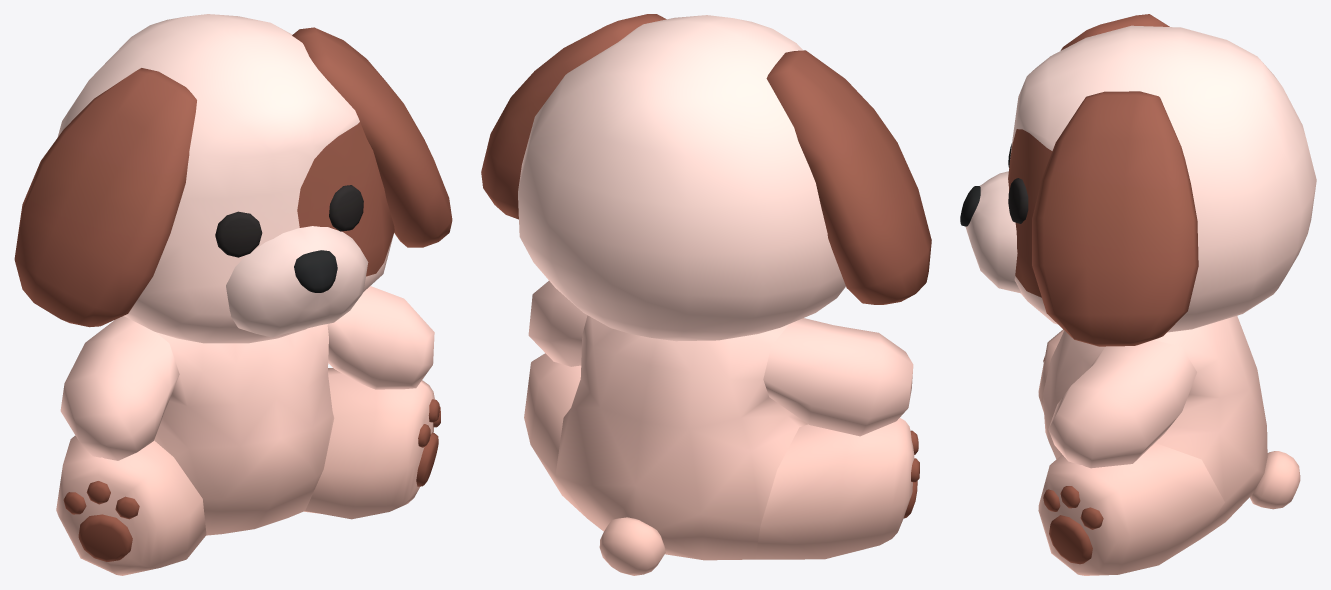
The model's file is Dog_01.glb.
3 renders of one model, left to right at view 1: azimuth 30°, elevation 25°; view 2: azimuth 150°, elevation 25°; view 3: azimuth 270°, elevation 25°, orthographic. The views are drawn at different scales.
Parts seen in each view (by area): view 1: Dog_01; view 2: Dog_01; view 3: Dog_01.
Boxes of the visible parts, x1,y1,x2,y2 form: Dog_01: (14, 14, 452, 575); Dog_01: (481, 14, 931, 575); Dog_01: (960, 14, 1316, 575).
Bounding box in the file's own units: 0.3714 × 0.4301 × 0.2896.
Materials: 2 (2 with a texture image).
